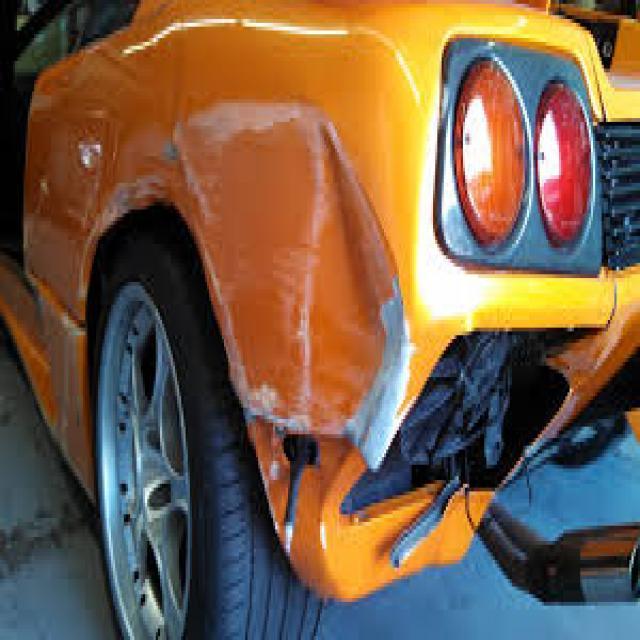moderate: (180, 83, 601, 511)
